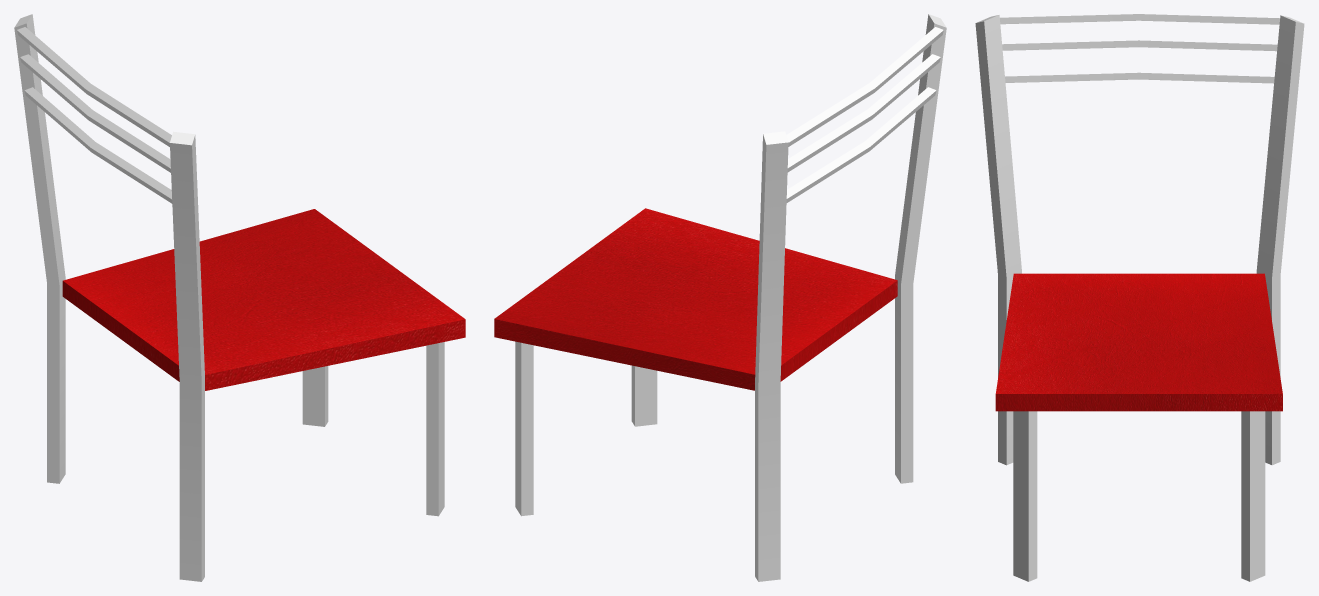
The model's file is chair01.fbx.
The picture shows the model from 3 angles, left to right: view 1: azimuth 30°, elevation 25°; view 2: azimuth 150°, elevation 25°; view 3: azimuth 270°, elevation 25°; orthographic projection. The views are drawn at different scales.
Parts seen in each view (by area): view 1: Cube; view 2: Cube; view 3: Cube.
Part boxes in pixels (<box>): Cube: <box>14,14,465,581</box>; Cube: <box>494,14,946,581</box>; Cube: <box>975,14,1304,581</box>.
Size of the model in its own units: 69.91 by 100 by 68.74.
2 materials, 1 textured.
